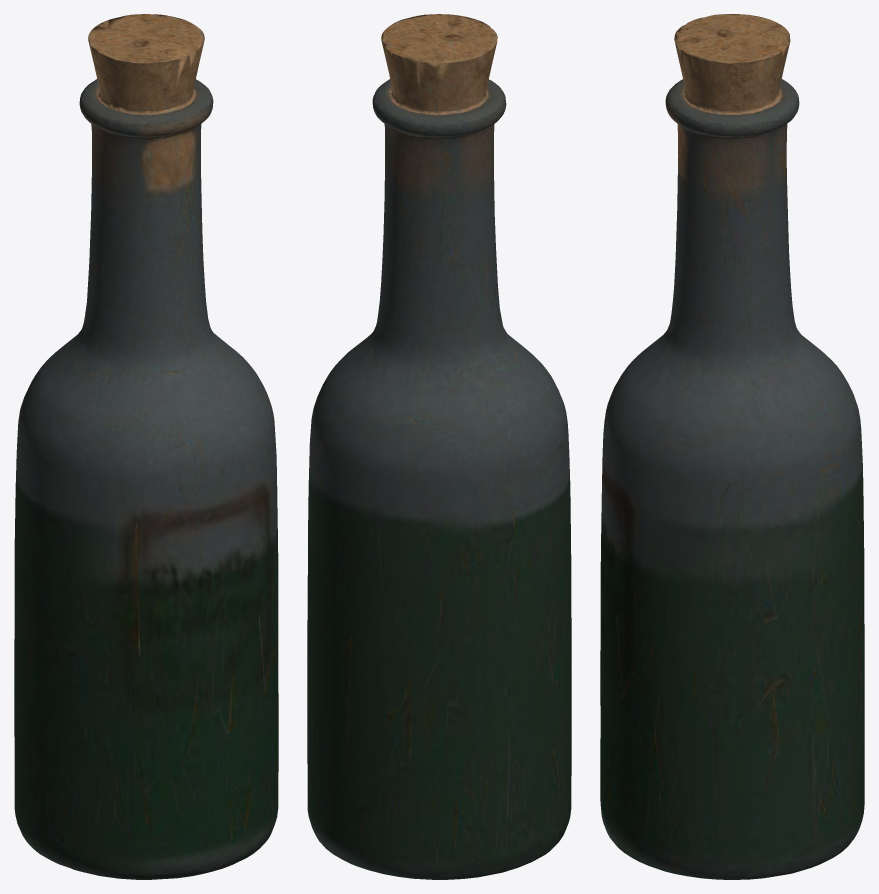
File: potiongreen.glb
3 views of the same model, side by side, from view 1: azimuth 30°, elevation 25°; view 2: azimuth 150°, elevation 25°; view 3: azimuth 270°, elevation 25° (orthographic).
Visible parts, largest first — view 1: Mesh_0; view 2: Mesh_0; view 3: Mesh_0.
Part boxes in pixels (x1=…): Mesh_0: x1=14, y1=14, x2=278, y2=879; Mesh_0: x1=307, y1=14, x2=571, y2=879; Mesh_0: x1=600, y1=14, x2=864, y2=879.
Size of the model in its own units: 0.5721 by 1.9 by 0.5723.
1 material, 1 textured.
